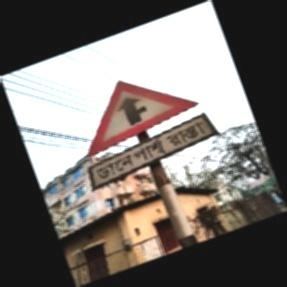Side-road-right: (87, 80, 199, 157)
